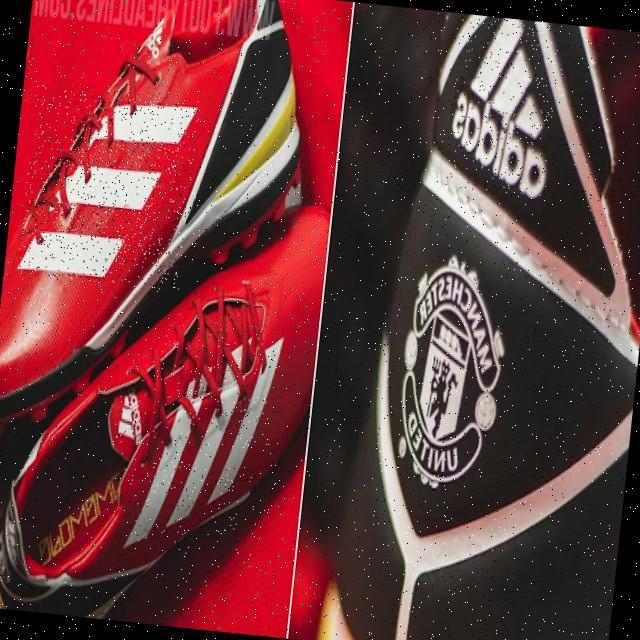Adidas: (122, 324, 282, 566), (16, 83, 199, 291), (444, 14, 561, 198), (112, 385, 148, 448), (142, 12, 166, 58)
